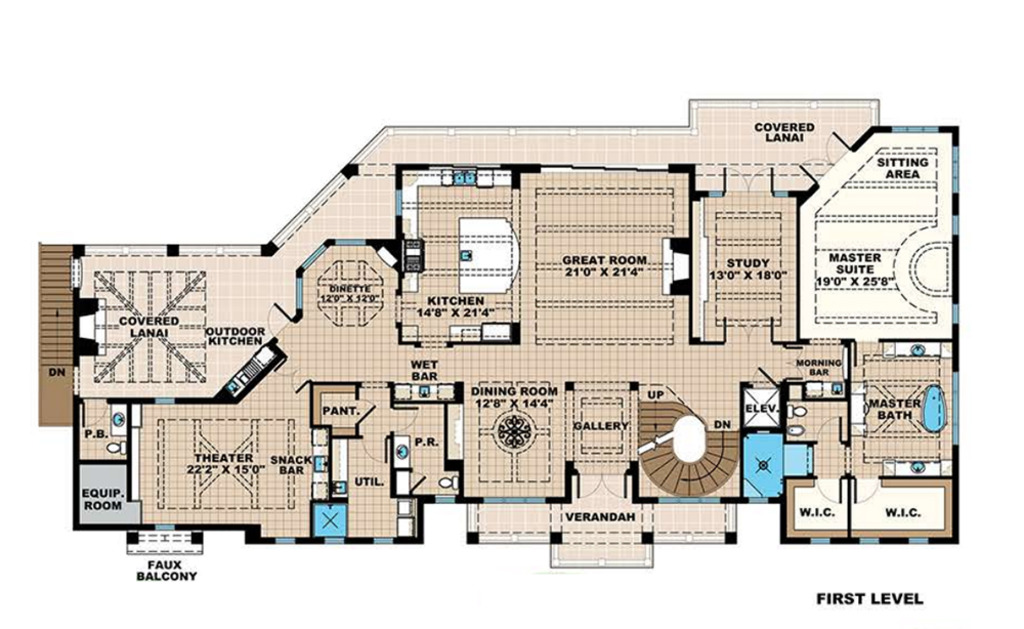door: (802, 135, 849, 182), (722, 166, 774, 198), (576, 469, 626, 502), (809, 414, 848, 446), (265, 303, 293, 338), (854, 474, 882, 508), (815, 474, 846, 504), (360, 433, 388, 463), (389, 405, 422, 430), (357, 396, 379, 424)
large_sink: (435, 472, 460, 491), (100, 438, 125, 456), (786, 402, 809, 421)
small_sink: (889, 455, 942, 478), (108, 399, 130, 437), (895, 341, 940, 357)
stairs: (639, 399, 743, 495), (36, 240, 77, 435)
tub: (919, 382, 949, 435)
twin_sink: (455, 165, 473, 187)
windows: (481, 495, 546, 507), (449, 170, 481, 189), (330, 237, 372, 248), (271, 533, 297, 549), (392, 187, 403, 219), (367, 536, 395, 548), (320, 537, 346, 545)
